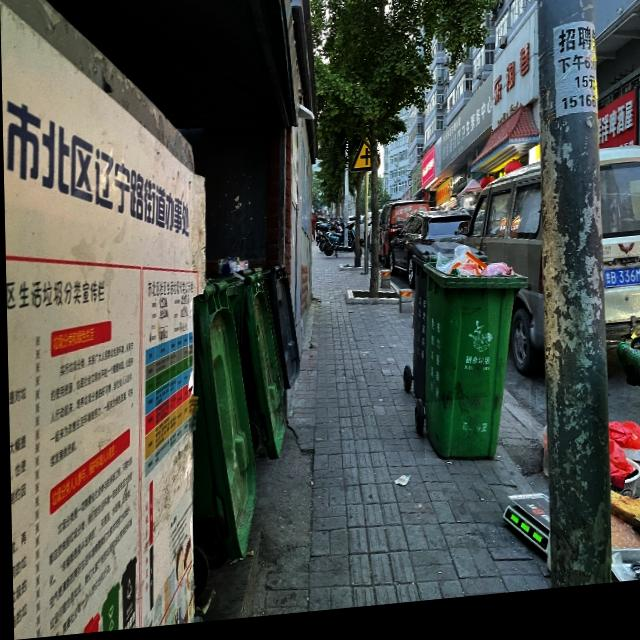garbage_bin: (408, 247, 488, 412)
overflow: (419, 248, 530, 473)
